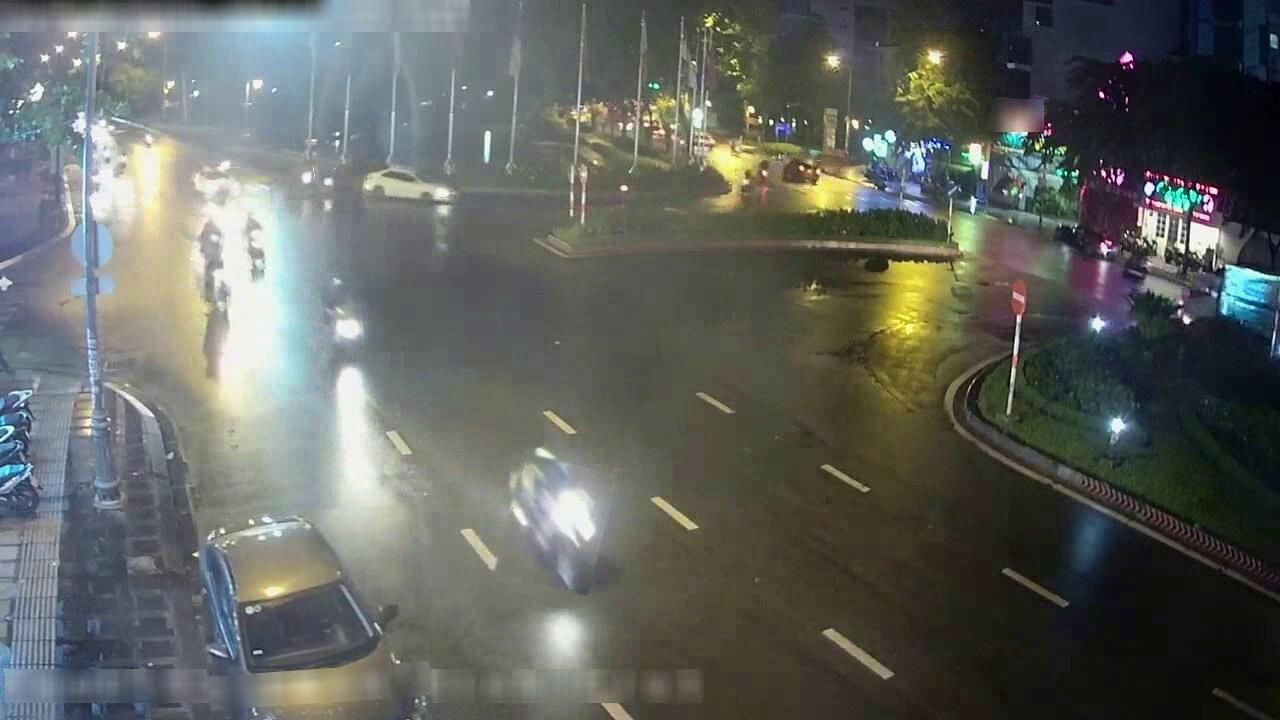Car: (199, 516, 408, 719), (508, 447, 604, 592), (362, 168, 455, 204), (1055, 224, 1118, 259), (193, 166, 239, 204), (783, 158, 819, 185)
Motorcycle: (0, 463, 39, 515)
Motorcyclist: (322, 278, 365, 356), (196, 220, 228, 310), (243, 213, 266, 274), (737, 166, 758, 206), (292, 167, 319, 196), (97, 139, 118, 168), (755, 157, 775, 186), (1122, 290, 1144, 315), (113, 149, 131, 177), (318, 170, 336, 196)
Sign: (1011, 279, 1027, 316)
Traffic light: (1098, 50, 1136, 110)
